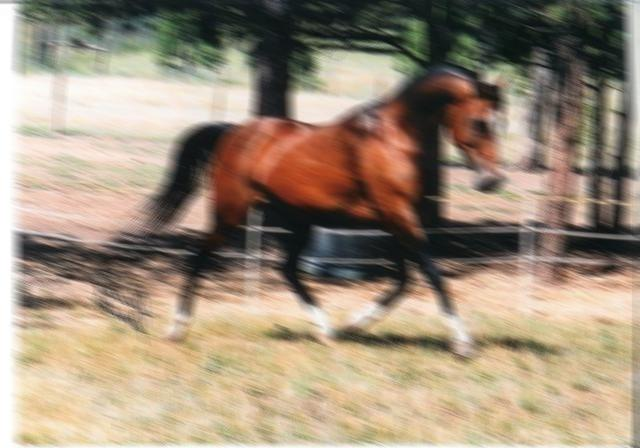horse: (110, 61, 512, 358)
